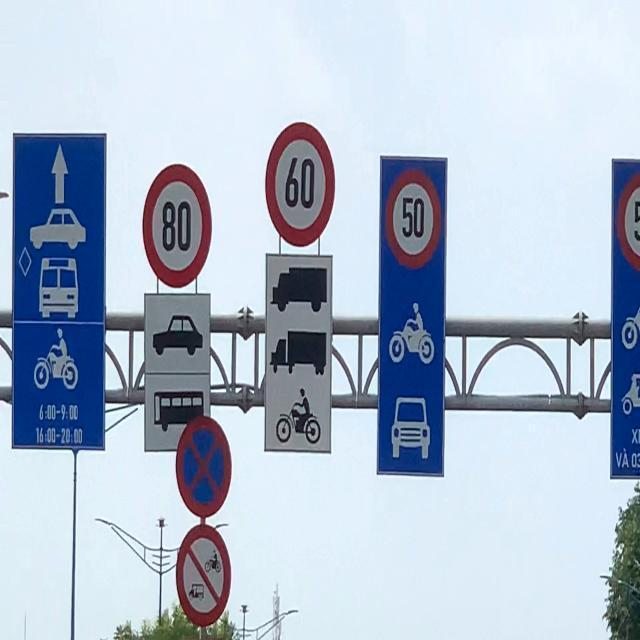127-toc-do-toi-da-60: (266, 120, 337, 246), (389, 171, 441, 264)
127-toc-do-toi-da-80: (140, 164, 212, 288)
130-cam-dung-va-do-xe: (174, 413, 232, 512)
